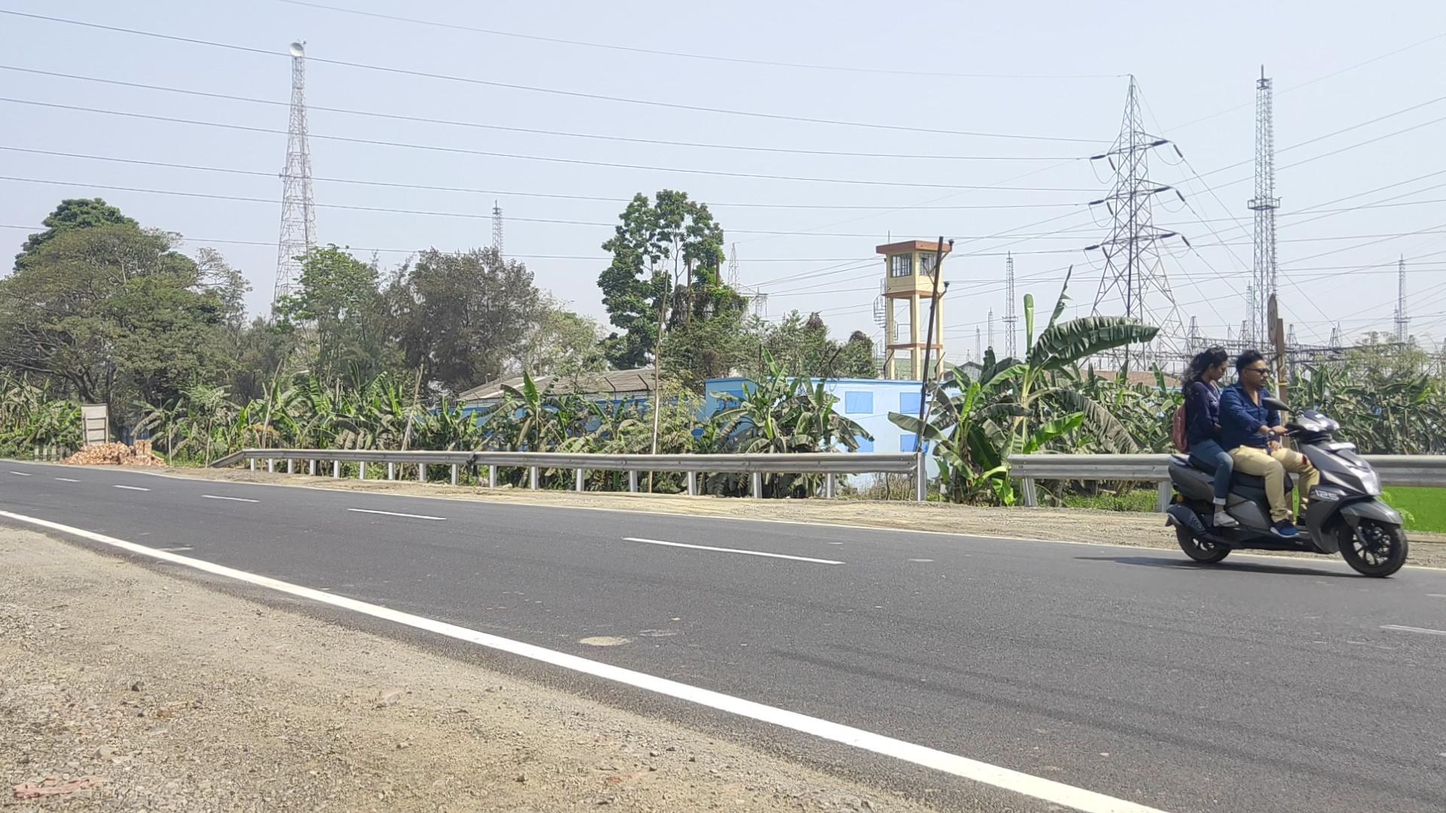bike: (1165, 347, 1408, 579)
